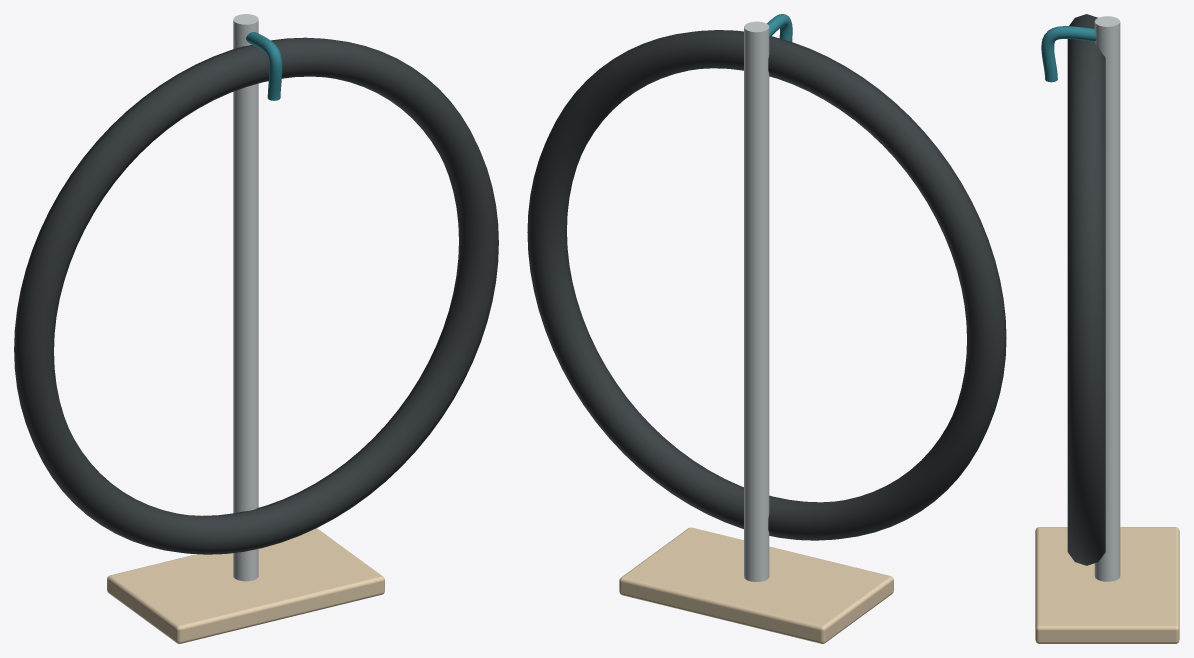
The model's file is bicycle-shop-and-repair-cafe-tyre-display-hoop-4d665020__32418.glb.
3 views of the same model, side by side, from view 1: azimuth 30°, elevation 25°; view 2: azimuth 150°, elevation 25°; view 3: azimuth 270°, elevation 25° (orthographic).
Visible parts, largest first — view 1: tyre-display-hoop; view 2: tyre-display-hoop; view 3: tyre-display-hoop.
Boxes of the visible parts, x1,y1,x2,y2 form: tyre-display-hoop: [14, 14, 498, 643]; tyre-display-hoop: [527, 14, 1006, 643]; tyre-display-hoop: [1035, 14, 1179, 643].
Bounding box in the file's own units: 0.69 × 0.79 × 0.18.
